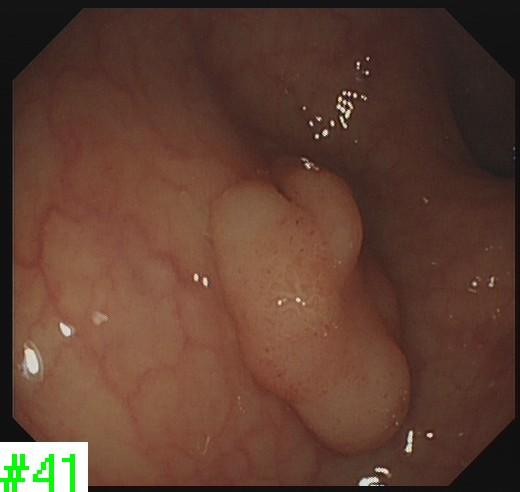adenoma: (203, 164, 414, 459)
